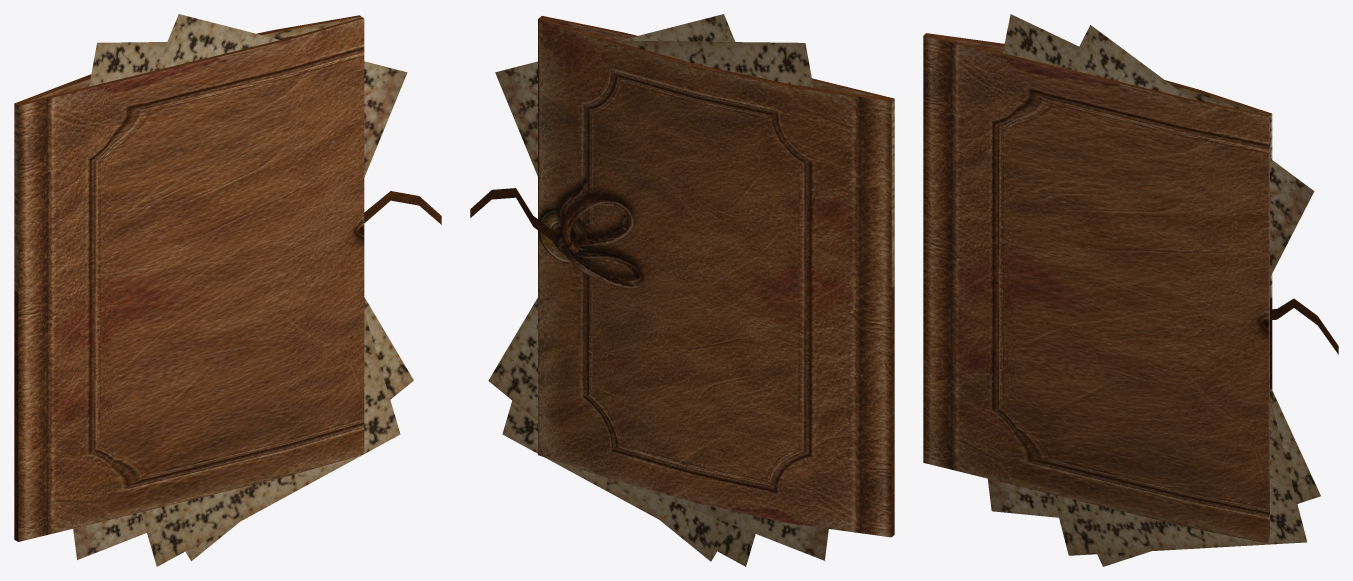
File: mm9_deco_manuscript.glb
The picture shows the model from 3 angles, left to right: view 1: azimuth 30°, elevation 25°; view 2: azimuth 150°, elevation 25°; view 3: azimuth 330°, elevation 25°; orthographic projection. The views are drawn at different scales.
Parts seen in each view (by area): view 1: Manuscript; view 2: Manuscript; view 3: Manuscript.
Boxes of the visible parts, x1,y1,x2,y2 form: Manuscript: (14,14,441,566); Manuscript: (470,14,894,566); Manuscript: (923,14,1338,566).
Bounding box in the file's own units: 0.7723 × 0.9577 × 0.0548.
2 materials, 2 textured.
